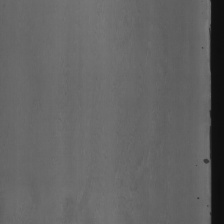oil_spot: (207, 109, 211, 156), (208, 26, 211, 76), (203, 153, 210, 169)
